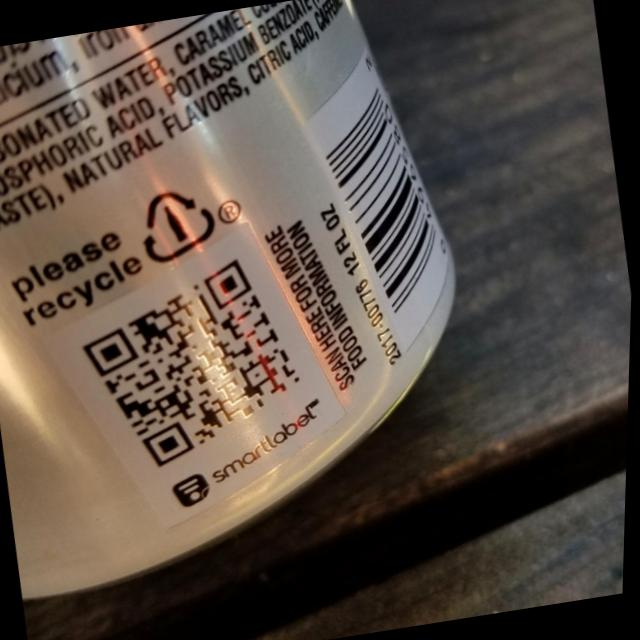QR_CODE: (55, 232, 332, 486)
